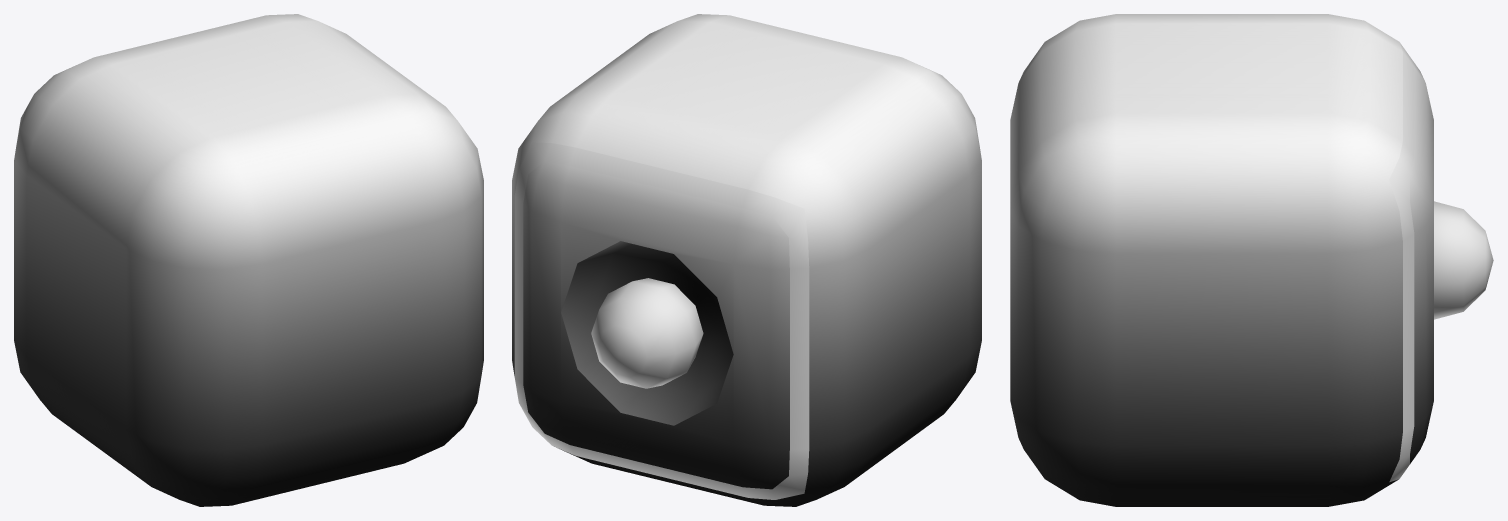
Rendered from Trigger_PL_1x1_V1.fbx.
3 renders of one model, left to right at view 1: azimuth 30°, elevation 25°; view 2: azimuth 150°, elevation 25°; view 3: azimuth 270°, elevation 25°, orthographic. The views are drawn at different scales.
Visible parts, largest first — view 1: Trigger_PL_1x1_V1; view 2: Trigger_PL_1x1_V1; view 3: Trigger_PL_1x1_V1.
Part boxes in pixels (<box>): Trigger_PL_1x1_V1: <box>14,14,483,506</box>; Trigger_PL_1x1_V1: <box>512,14,981,506</box>; Trigger_PL_1x1_V1: <box>1010,14,1493,506</box>.
Size of the model in its own units: 128 by 128 by 146.
Materials: 2 (1 with a texture image).
